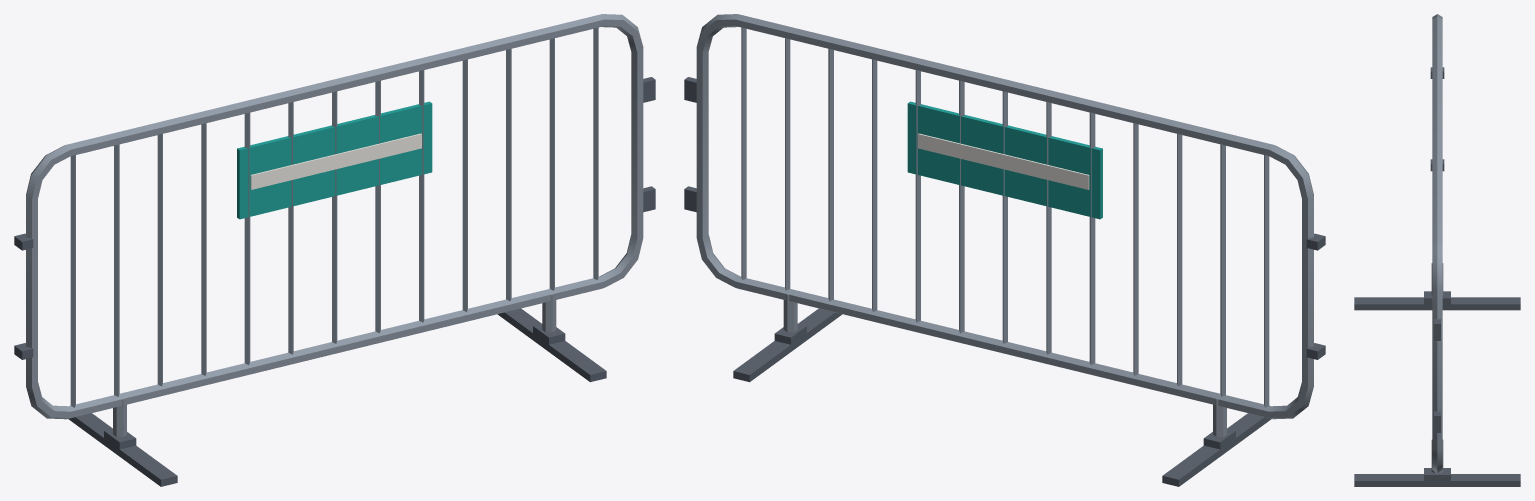
Rendered from barrier_fence.glb.
3 views of the same model, side by side, from view 1: azimuth 30°, elevation 25°; view 2: azimuth 150°, elevation 25°; view 3: azimuth 270°, elevation 25° (orthographic). The views are drawn at different scales.
Parts seen in each view (by area): view 1: barrier_fence; view 2: barrier_fence; view 3: barrier_fence.
Boxes of the visible parts, x1,y1,x2,y2 form: barrier_fence: [14, 14, 655, 486]; barrier_fence: [684, 14, 1325, 486]; barrier_fence: [1354, 14, 1520, 486].
Size of the model in its own units: 2.31 by 1.1 by 0.62.
